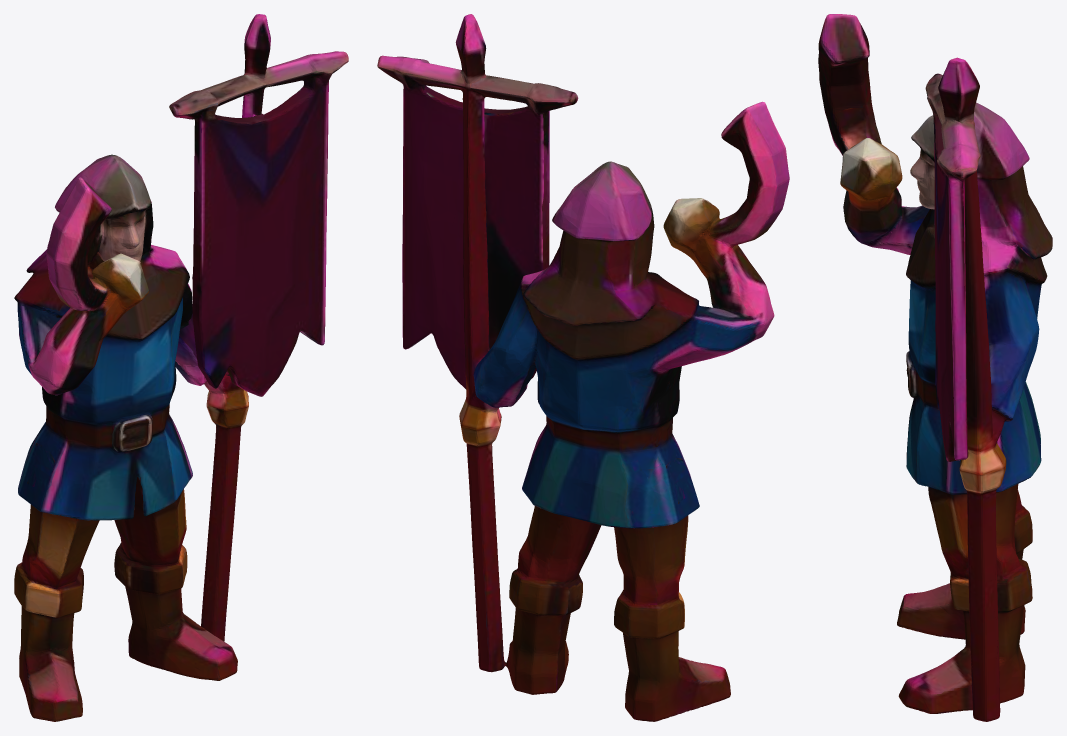
The model's file is HERALD.glb.
3 views of the same model, side by side, from view 1: azimuth 30°, elevation 25°; view 2: azimuth 150°, elevation 25°; view 3: azimuth 270°, elevation 25° (orthographic). The views are drawn at different scales.
Parts seen in each view (by area): view 1: HERALD_512; view 2: HERALD_512; view 3: HERALD_512.
Part boxes in pixels (left/top/right/bottom): HERALD_512: left=14, top=14, right=348, bottom=721; HERALD_512: left=377, top=14, right=789, bottom=721; HERALD_512: left=818, top=14, right=1052, bottom=721.
Size of the model in its own units: 1.16 by 1.99 by 0.6234.
1 material, 1 textured.
